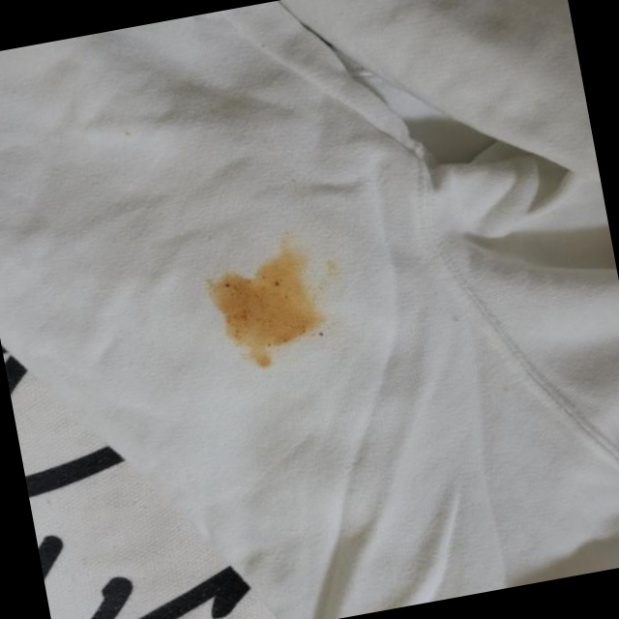kimchi: (197, 221, 366, 387)
